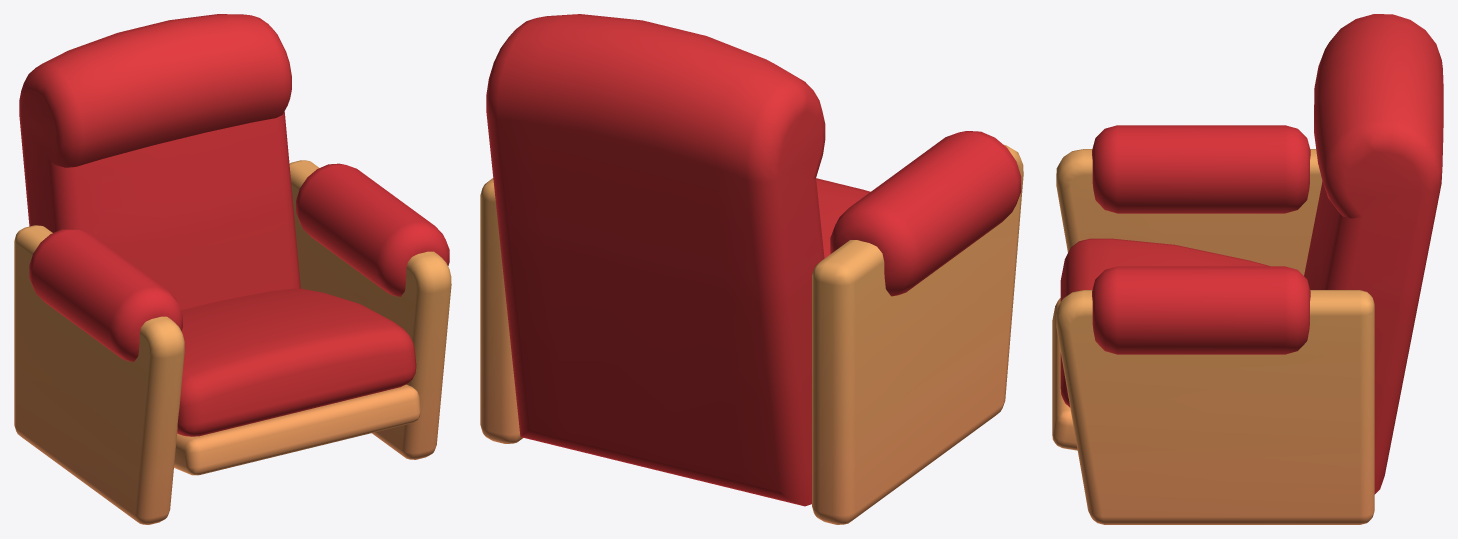
File: Armchair_18.glb
3 views of the same model, side by side, from view 1: azimuth 30°, elevation 25°; view 2: azimuth 150°, elevation 25°; view 3: azimuth 270°, elevation 25° (orthographic). The views are drawn at different scales.
Visible parts, largest first — view 1: Armchair_18; view 2: Armchair_18; view 3: Armchair_18.
Part boxes in pixels (bbox=[...]): Armchair_18: bbox=[14, 14, 451, 524]; Armchair_18: bbox=[480, 14, 1023, 524]; Armchair_18: bbox=[1052, 14, 1443, 524].
Bounding box in the file's own units: 1.01 × 1.05 × 0.9378.
1 material, 1 textured.
